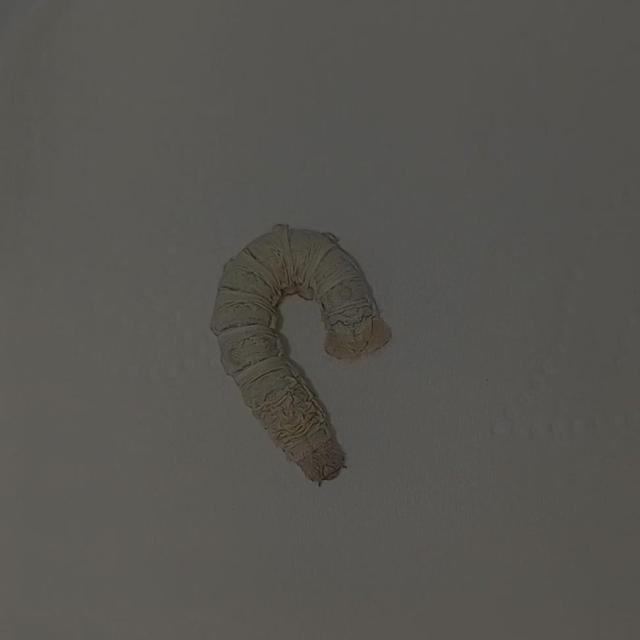Healthy: (194, 193, 421, 506)
